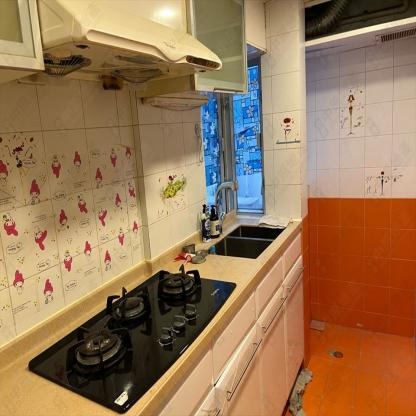Cupboard: (156, 230, 304, 415)
Exhaust Hood: (18, 0, 224, 89)
Faucet: (212, 179, 237, 223)
Sink: (204, 223, 284, 258)
Stove: (27, 263, 237, 412)
